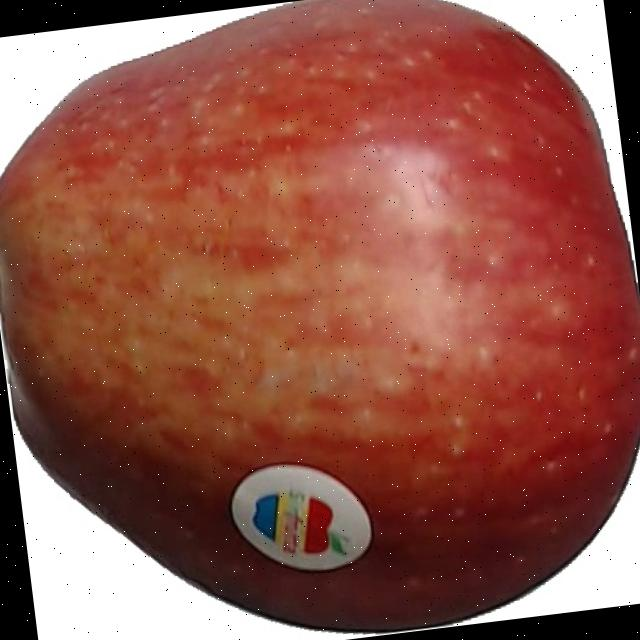apple: (0, 0, 640, 635)
